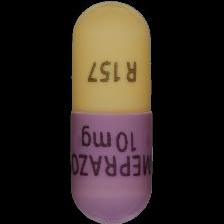42254-043: (0, 0, 224, 224)
